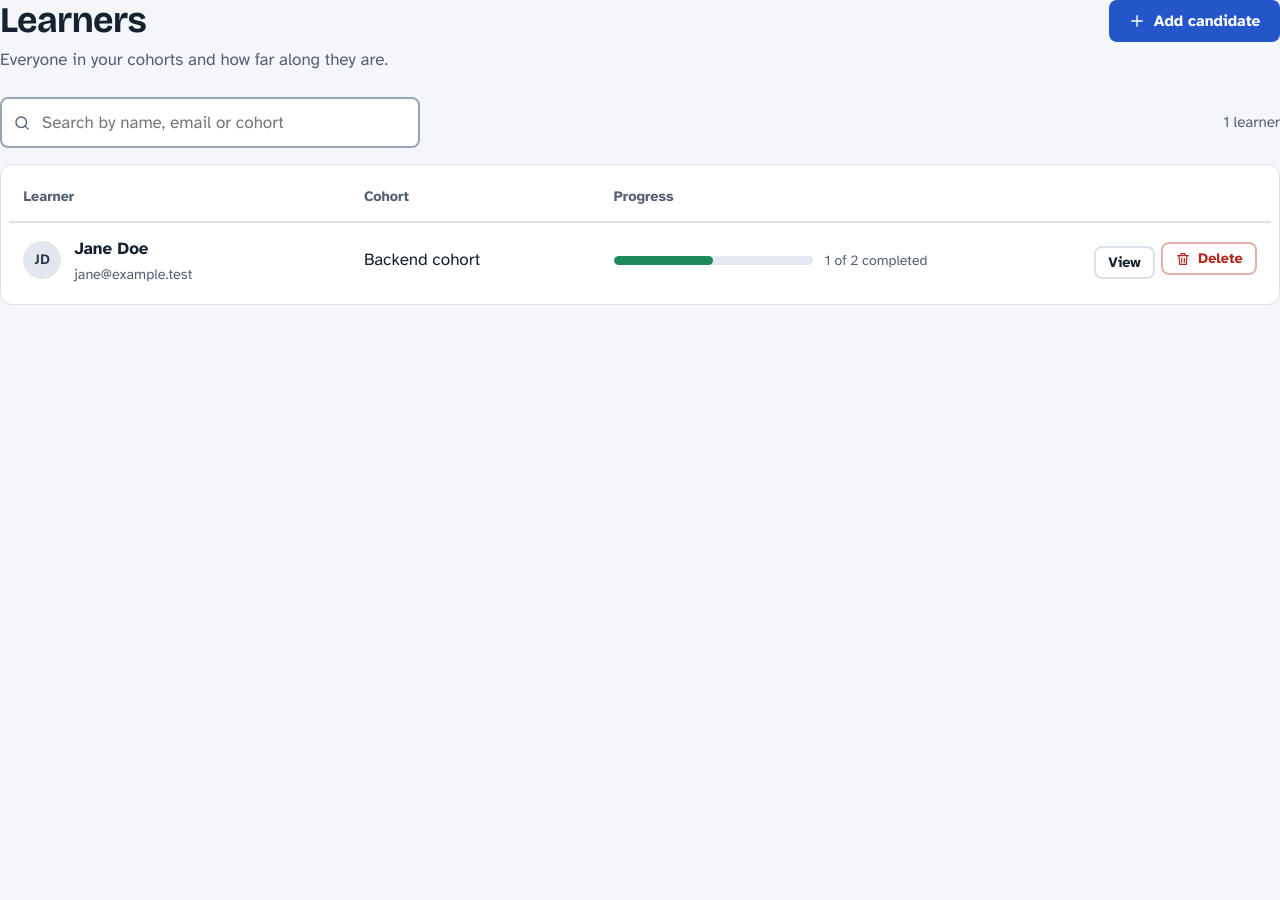
Test: deleting a learner › says what will be removed, then deletes and refreshes the list
Click the button with aria-label "Delete Jane Doe" at (1209, 259), box [1161, 242, 1257, 275]
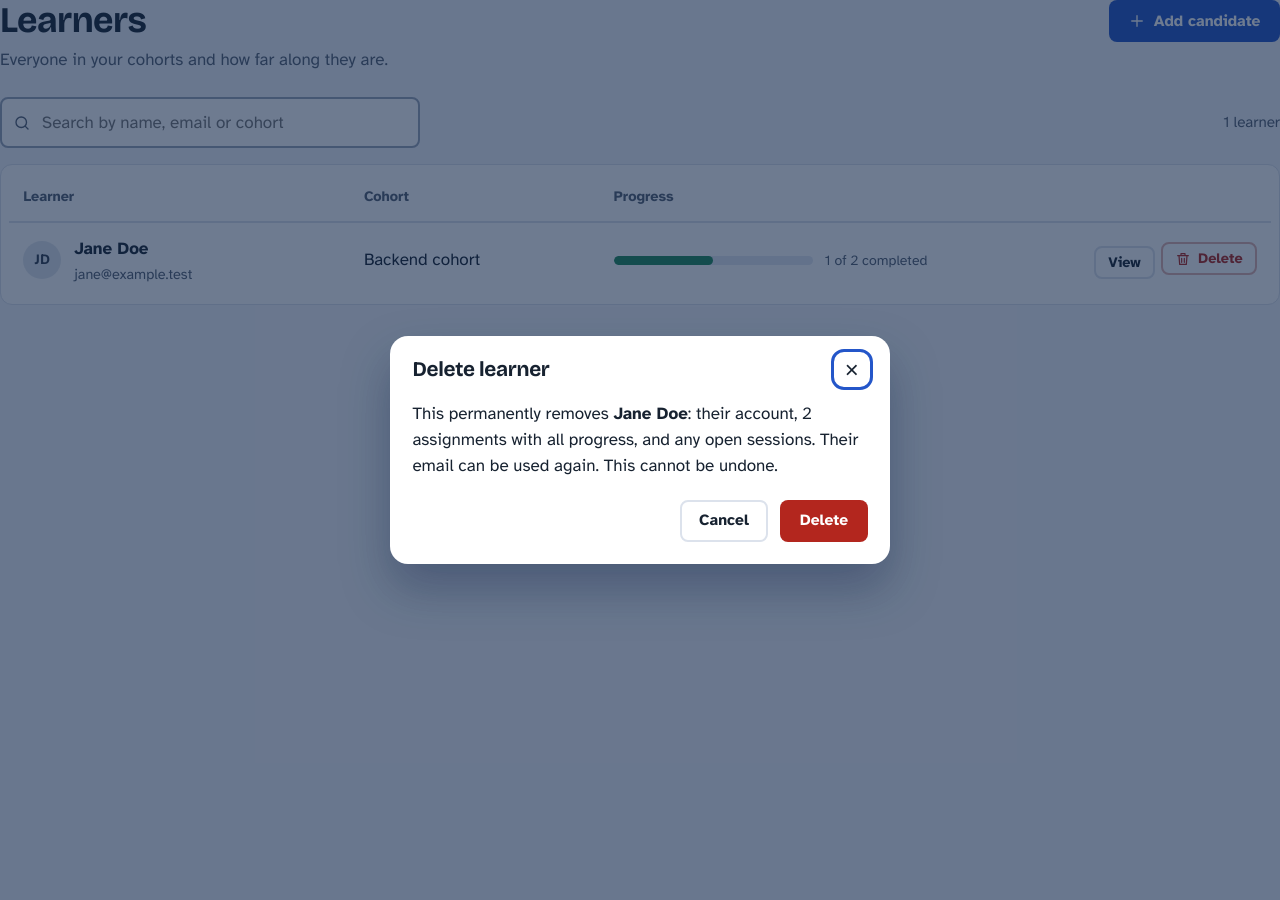
Expected: the dialog "Delete learner" shows "2 assignments", [390, 336, 890, 564]
Click the button "Delete" at (824, 521), box [780, 500, 868, 542]
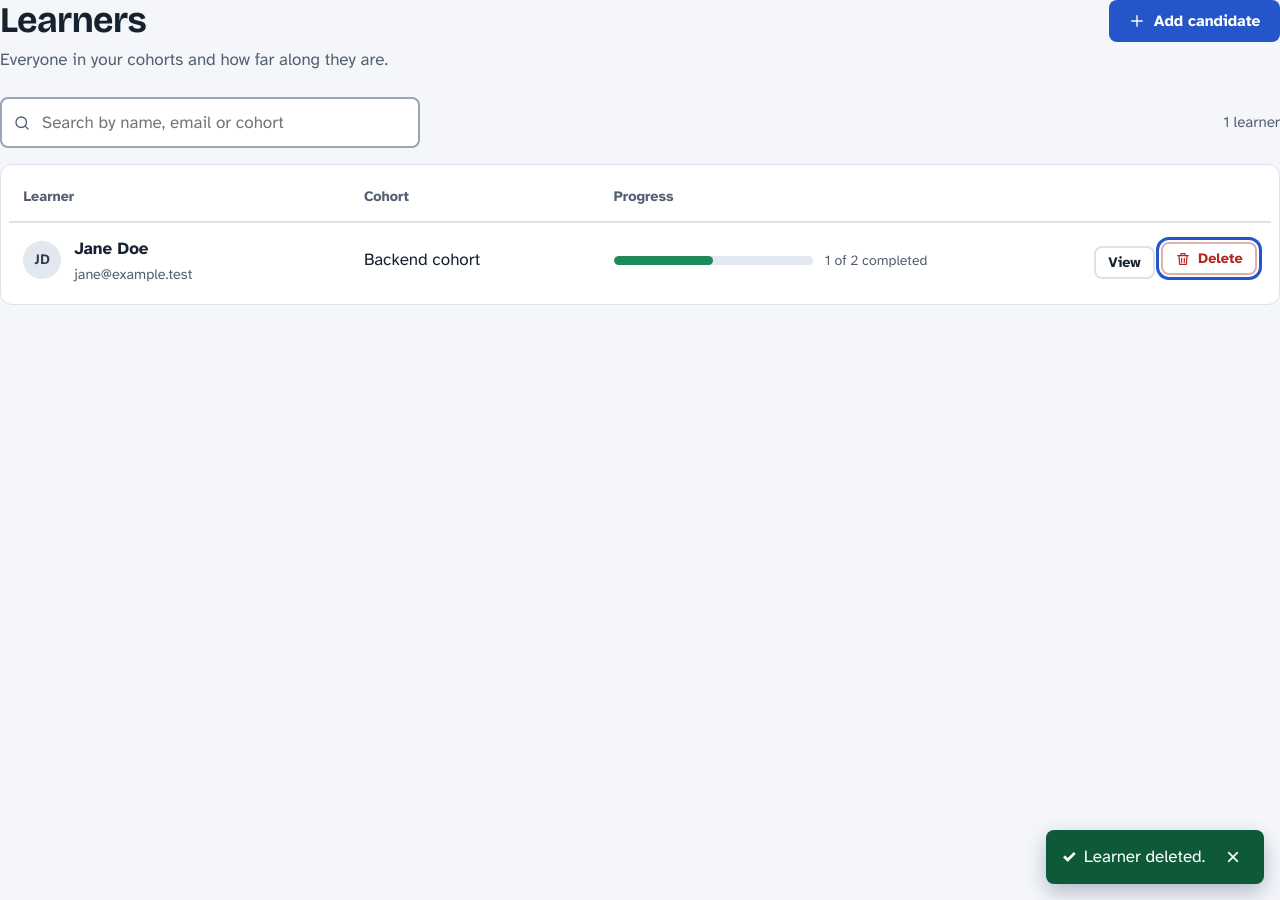
Expected: the text "Learner deleted." is shown, [1084, 846, 1205, 867]
